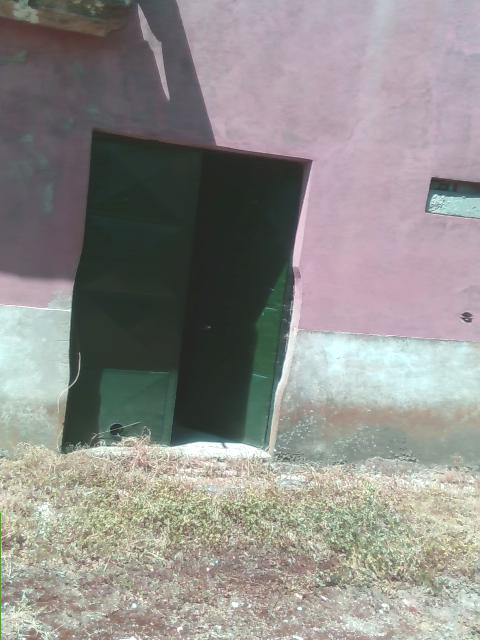semi_door: (57, 128, 311, 457)
